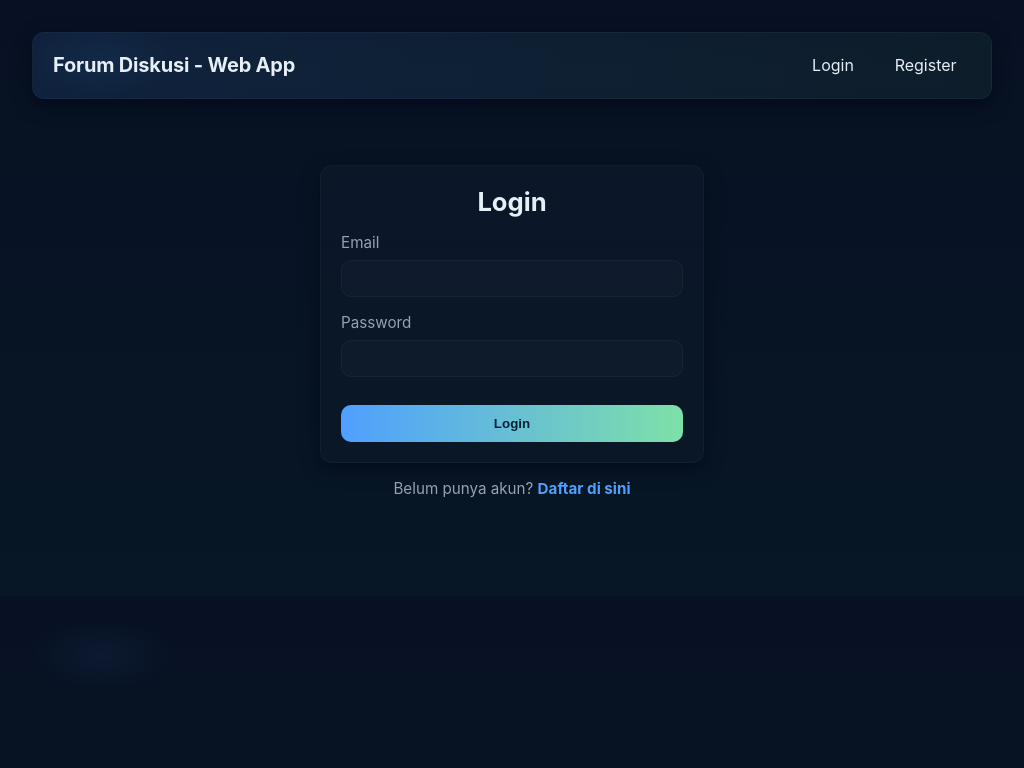
Test: Login spec › should navigate to register page when clicking register link
// Klik link "Daftar di sini"
Click the link "Daftar di sini" at x=585, y=489, box [538, 479, 631, 498]
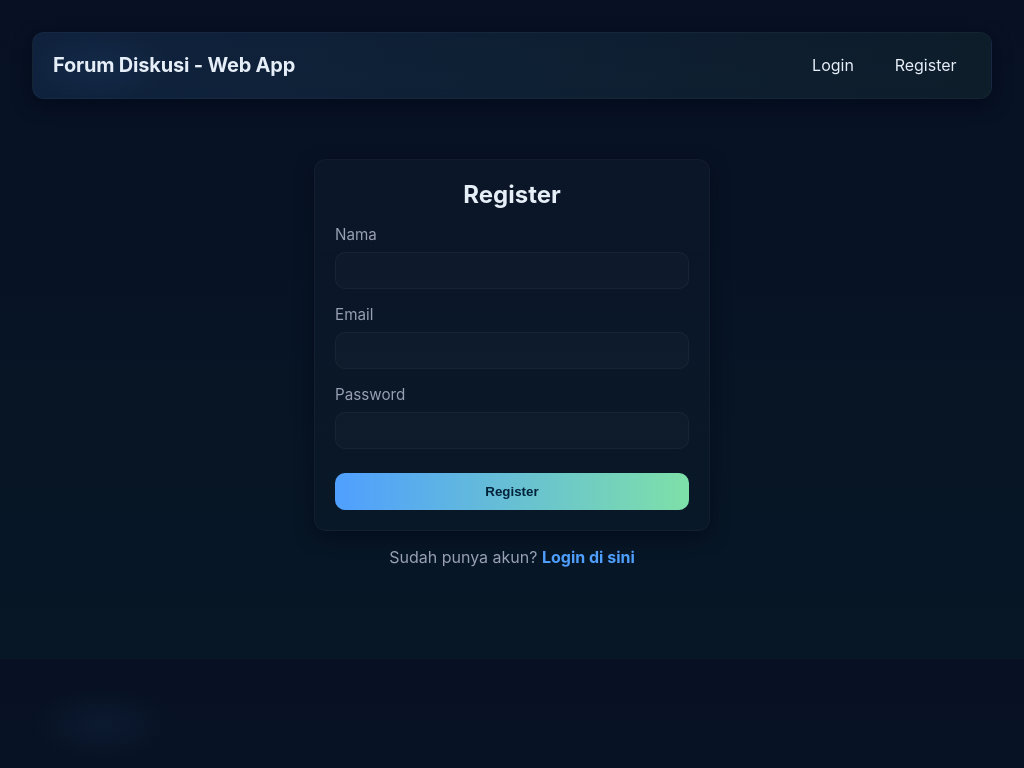
Expected: the heading "Register" is shown, [463, 180, 561, 209]
